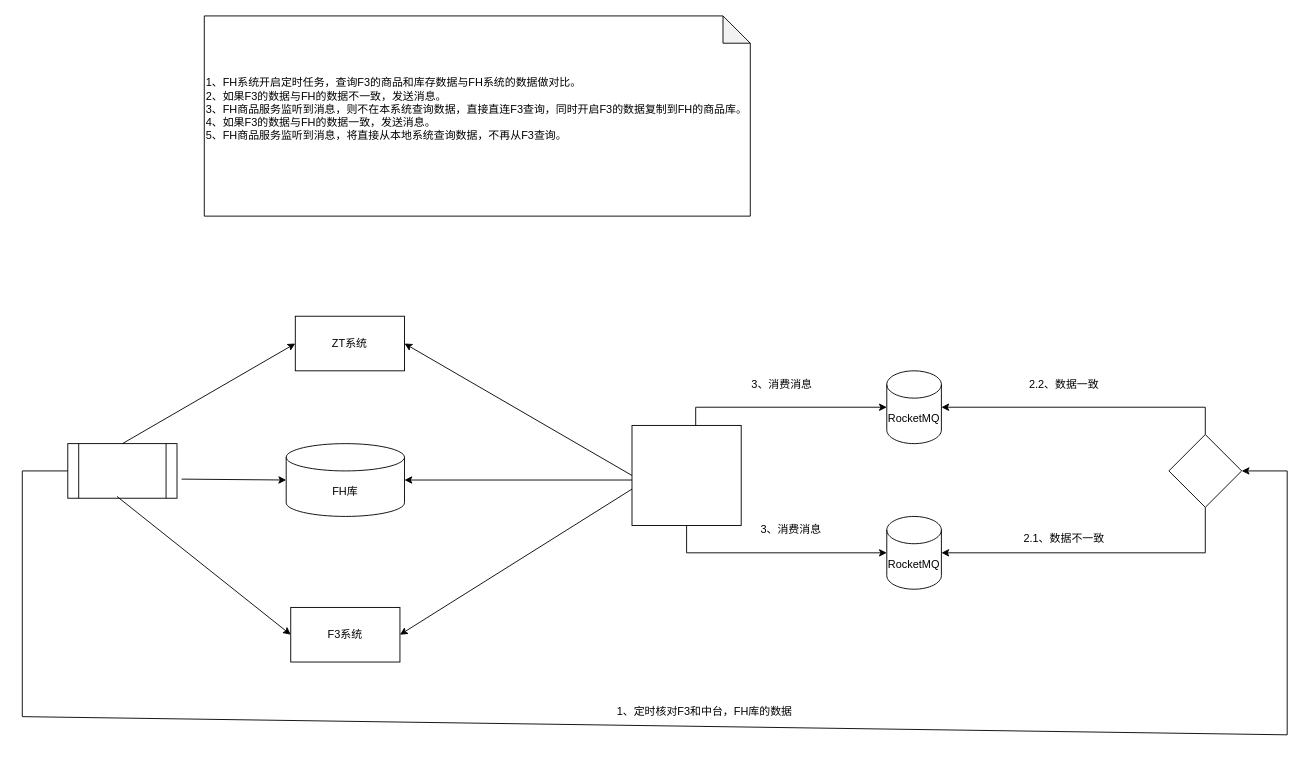
The diagram is 1310 pixels wide and 758 high, and some of its shapes have lost their labels. The shapes that lost their labels are listed below. From the top down, each one's centre as x and y in pixels, then its label:
At (x=122, y=470): "FH的JOB任务系统".
At (x=686, y=475): "FH系统".
At (x=1205, y=470): "数据校验".
